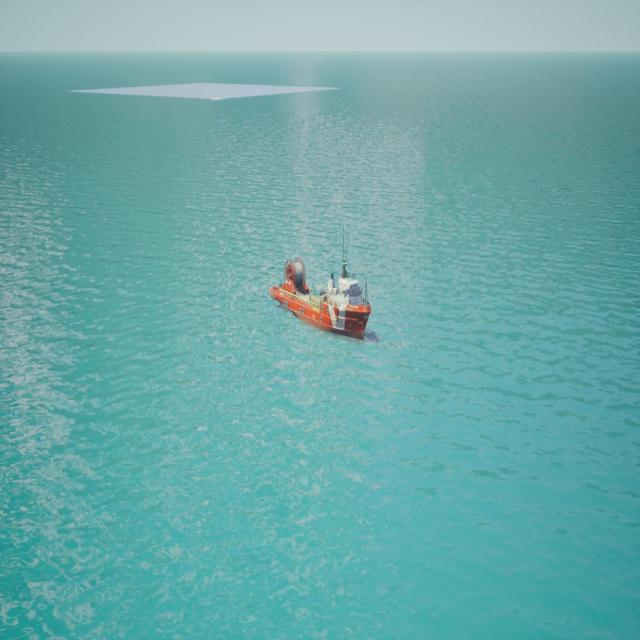tug boat: (271, 230, 376, 342)
